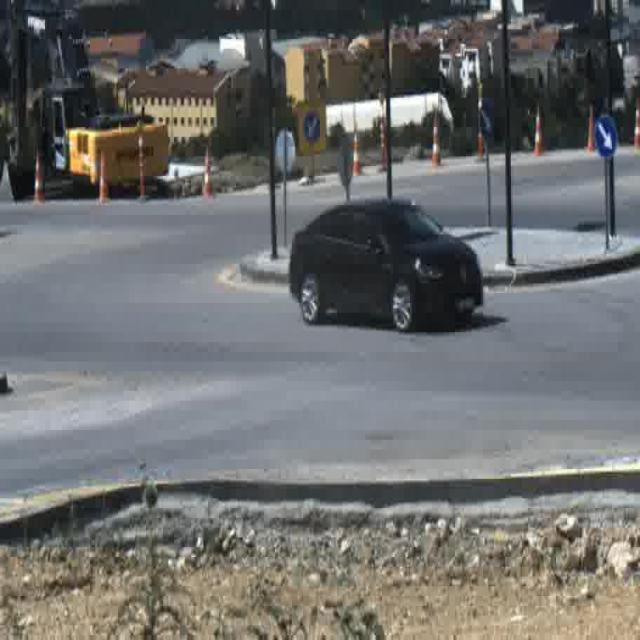Car: (289, 200, 484, 332)
